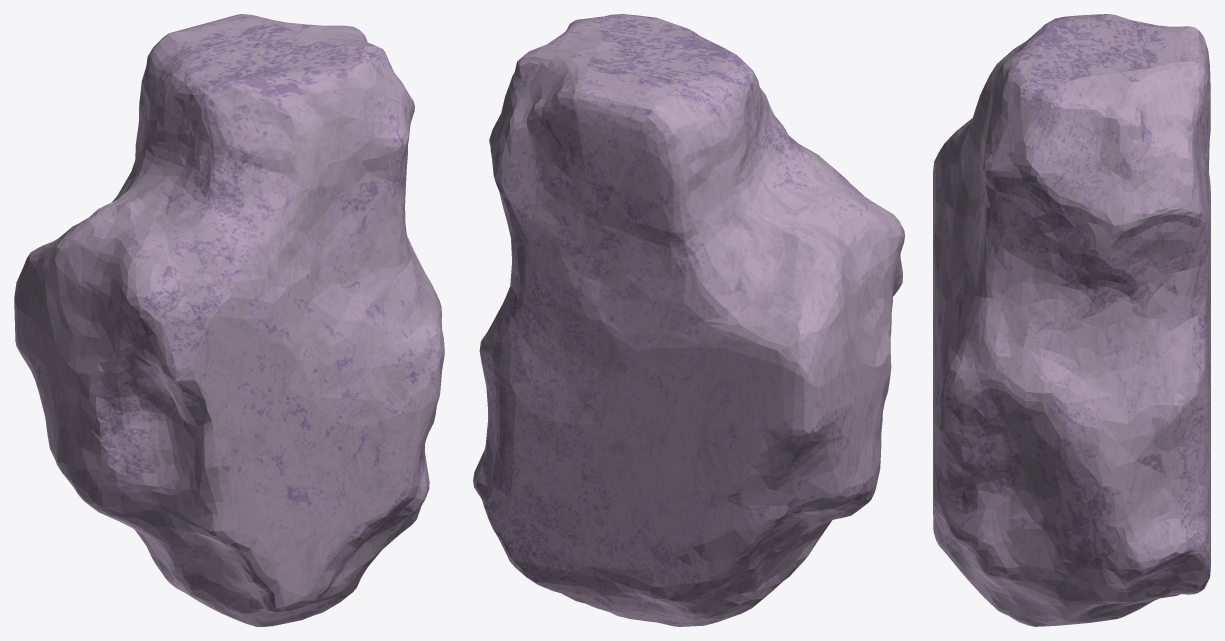
Rendered from 2rock2.glb.
The picture shows the model from 3 angles, left to right: view 1: azimuth 30°, elevation 25°; view 2: azimuth 150°, elevation 25°; view 3: azimuth 270°, elevation 25°; orthographic projection. The views are drawn at different scales.
Visible parts, largest first — view 1: rock2; view 2: rock2; view 3: rock2.
Boxes of the visible parts, <box> form: rock2: <box>14,14,444,626</box>; rock2: <box>473,14,904,626</box>; rock2: <box>933,14,1210,626</box>.
Bounding box in the file's own units: 1.62 × 2.36 × 1.06.
1 material, 1 textured.
